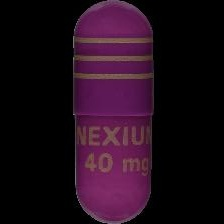49999-307: (0, 0, 224, 224)
